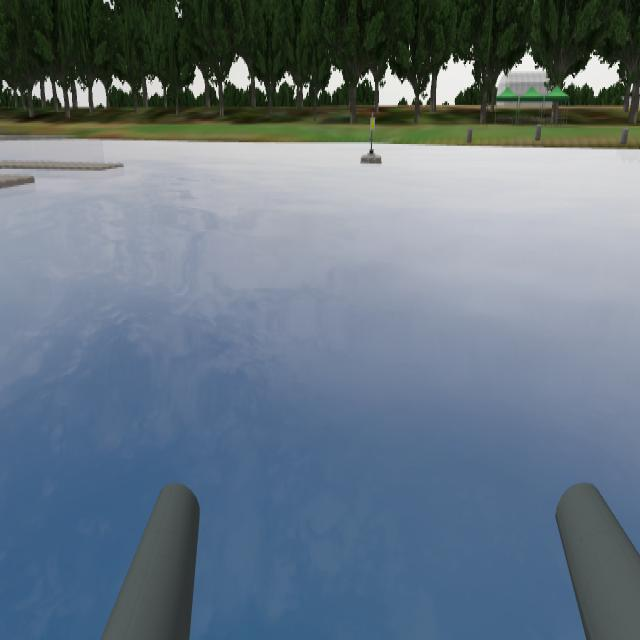yellow_pole: (366, 108, 380, 140)
